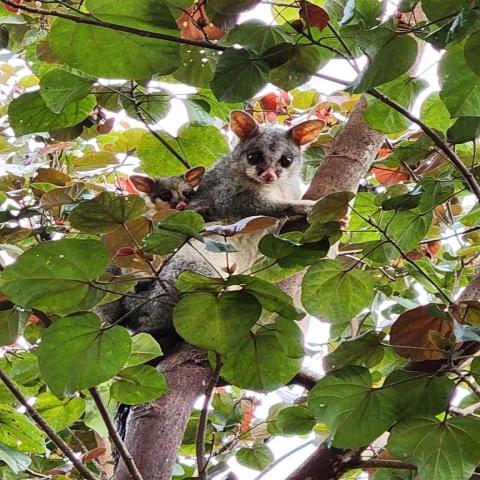small_animal: (92, 108, 336, 383), (84, 163, 211, 330)
